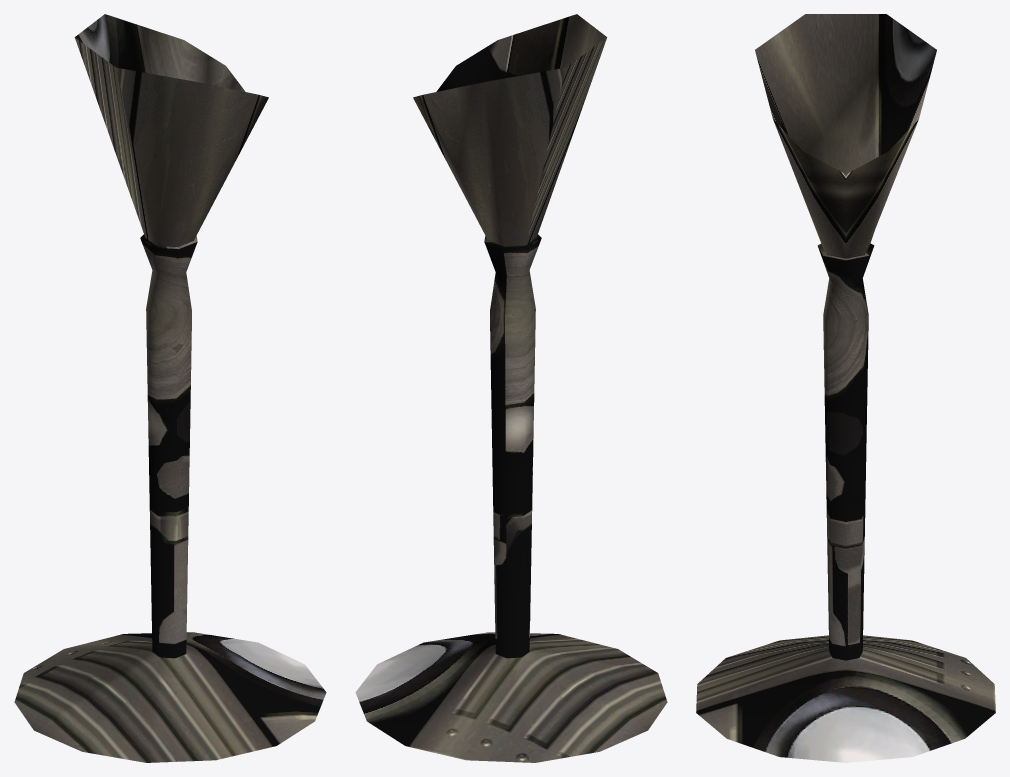
Rendered from lamp1.glb.
3 views of the same model, side by side, from view 1: azimuth 30°, elevation 25°; view 2: azimuth 150°, elevation 25°; view 3: azimuth 270°, elevation 25° (orthographic). The views are drawn at different scales.
Visible parts, largest first — view 1: Cylinder01; view 2: Cylinder01; view 3: Cylinder01.
Part boxes in pixels (x1=…): Cylinder01: x1=14, y1=14, x2=326, y2=762; Cylinder01: x1=355, y1=14, x2=667, y2=762; Cylinder01: x1=696, y1=14, x2=995, y2=762.
Size of the model in its own units: 27.76 by 64.9 by 27.16.
Materials: 1 (1 with a texture image).
